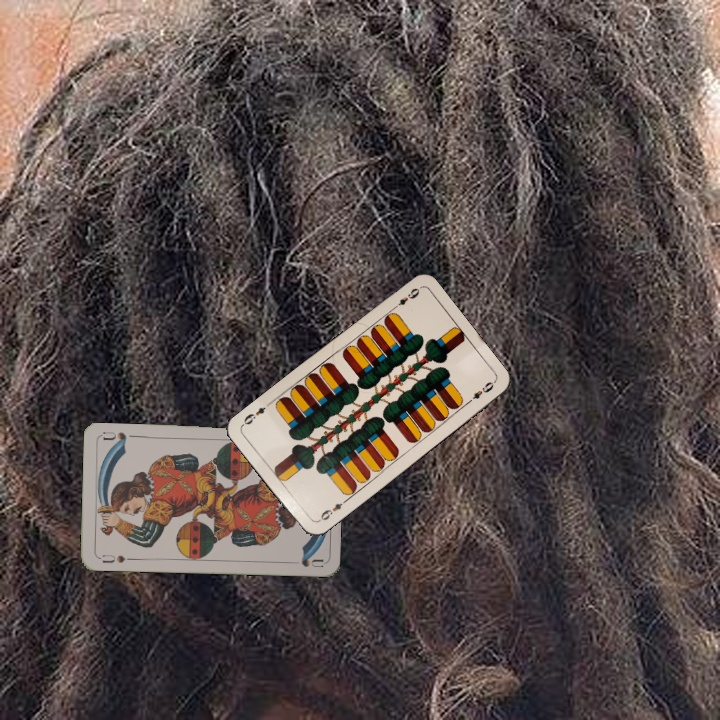E9: (314, 496, 349, 525), (387, 284, 422, 313)
SU: (95, 551, 135, 566)
